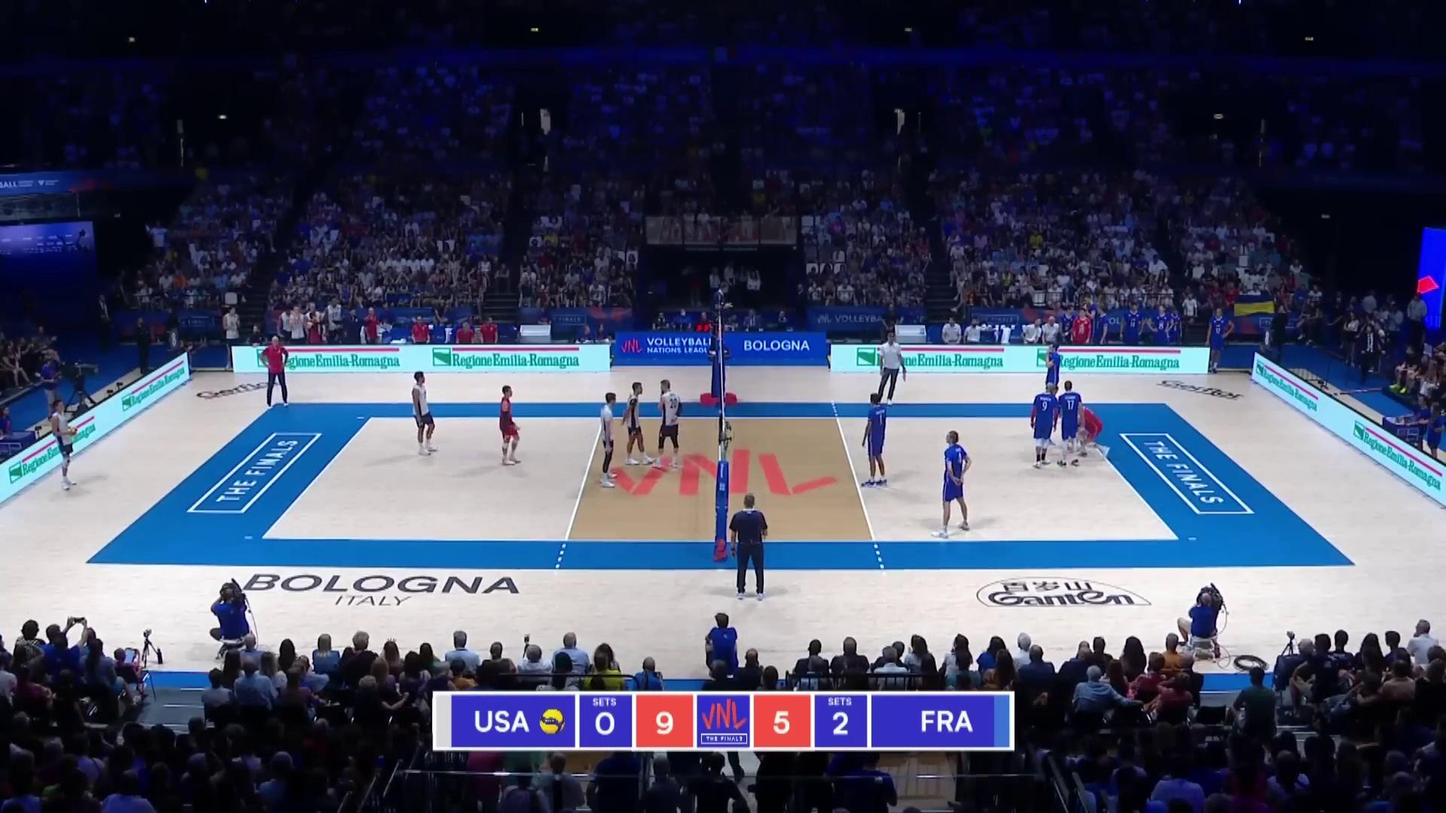player: (934, 431, 970, 537), (861, 394, 890, 487), (50, 400, 79, 490), (654, 379, 682, 466), (600, 393, 624, 488), (1057, 381, 1083, 467), (1073, 396, 1108, 459), (1031, 382, 1056, 468), (411, 373, 435, 457), (496, 387, 520, 468), (627, 381, 646, 463), (1045, 344, 1062, 412)
refree: (728, 495, 768, 598), (710, 283, 731, 353)
